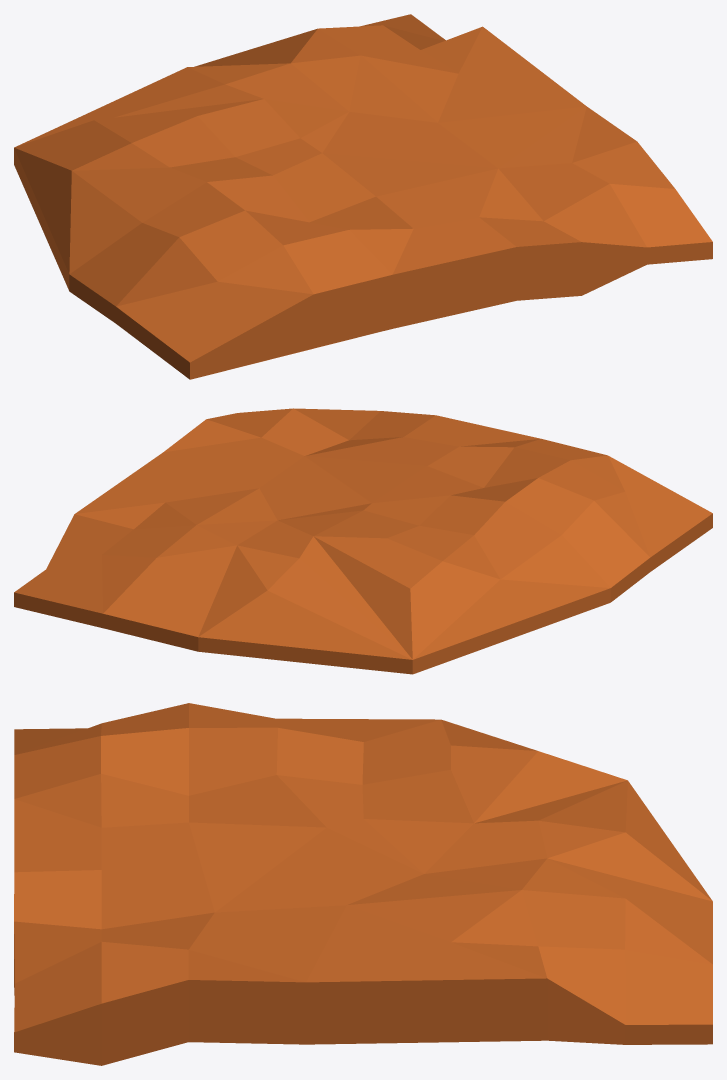
Rendered from Path Curve 2.fbx.
3 renders of one model, top to bottom at view 1: azimuth 30°, elevation 25°; view 2: azimuth 150°, elevation 25°; view 3: azimuth 270°, elevation 25°, orthographic. The views are drawn at different scales.
Parts seen in each view (by area): view 1: Path Curve 2; view 2: Path Curve 2; view 3: Path Curve 2.
Part boxes in pixels (x1,y1,x2,y2): Path Curve 2: (14, 14, 712, 379); Path Curve 2: (14, 408, 712, 674); Path Curve 2: (14, 703, 712, 1065).
Size of the model in its own units: 5.54 by 1.02 by 5.54.
